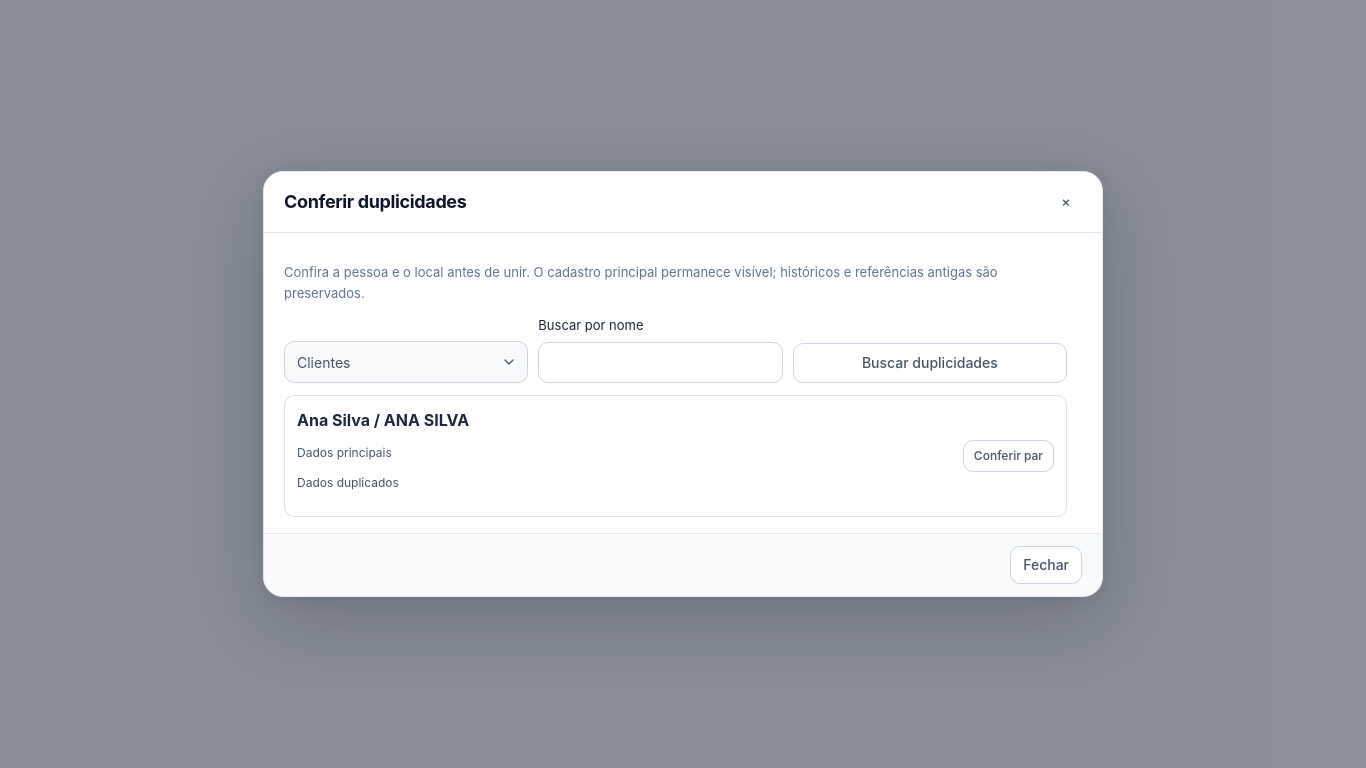
it: requires an explicit preview and identity check before confirming the selected direction
Click the button "Conferir par": (1008, 456) [963,440,1054,472]
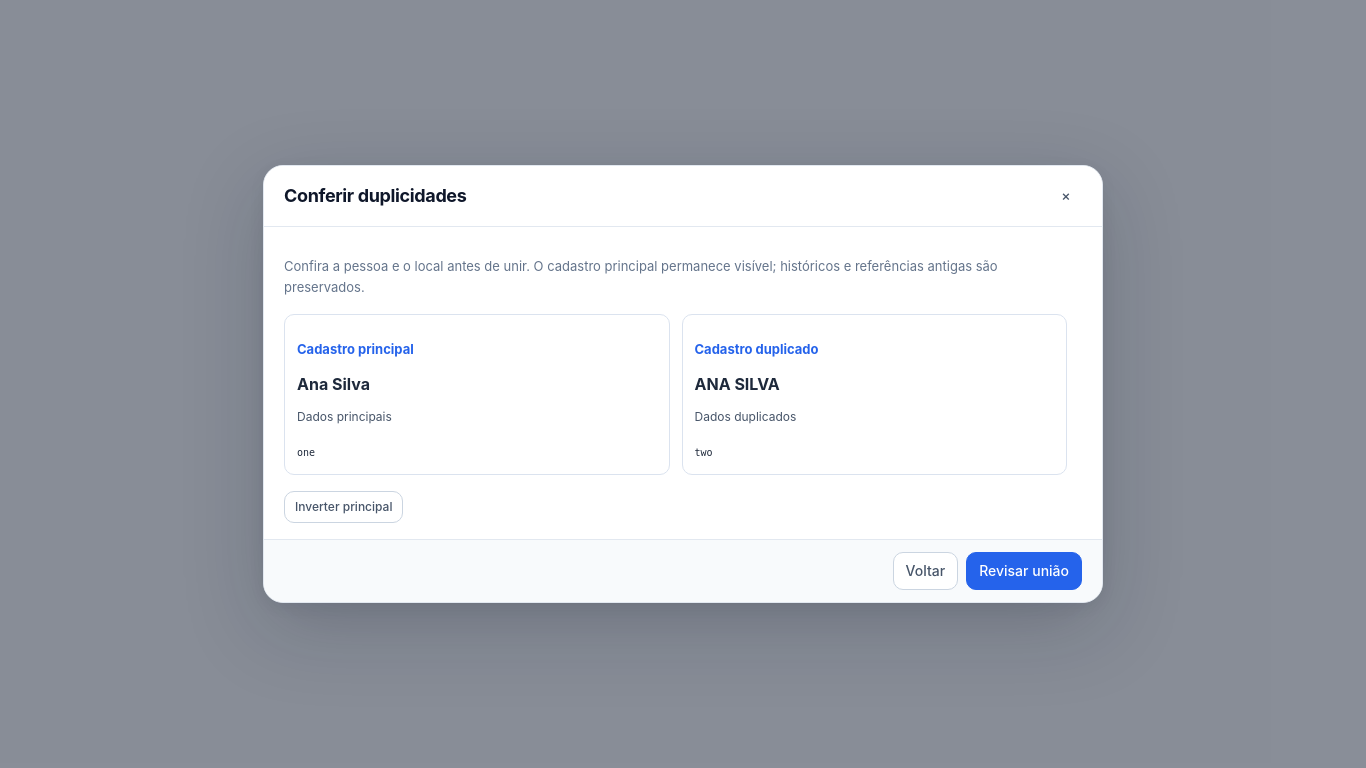
Click the button "Inverter principal": (344, 507) [284,491,403,523]
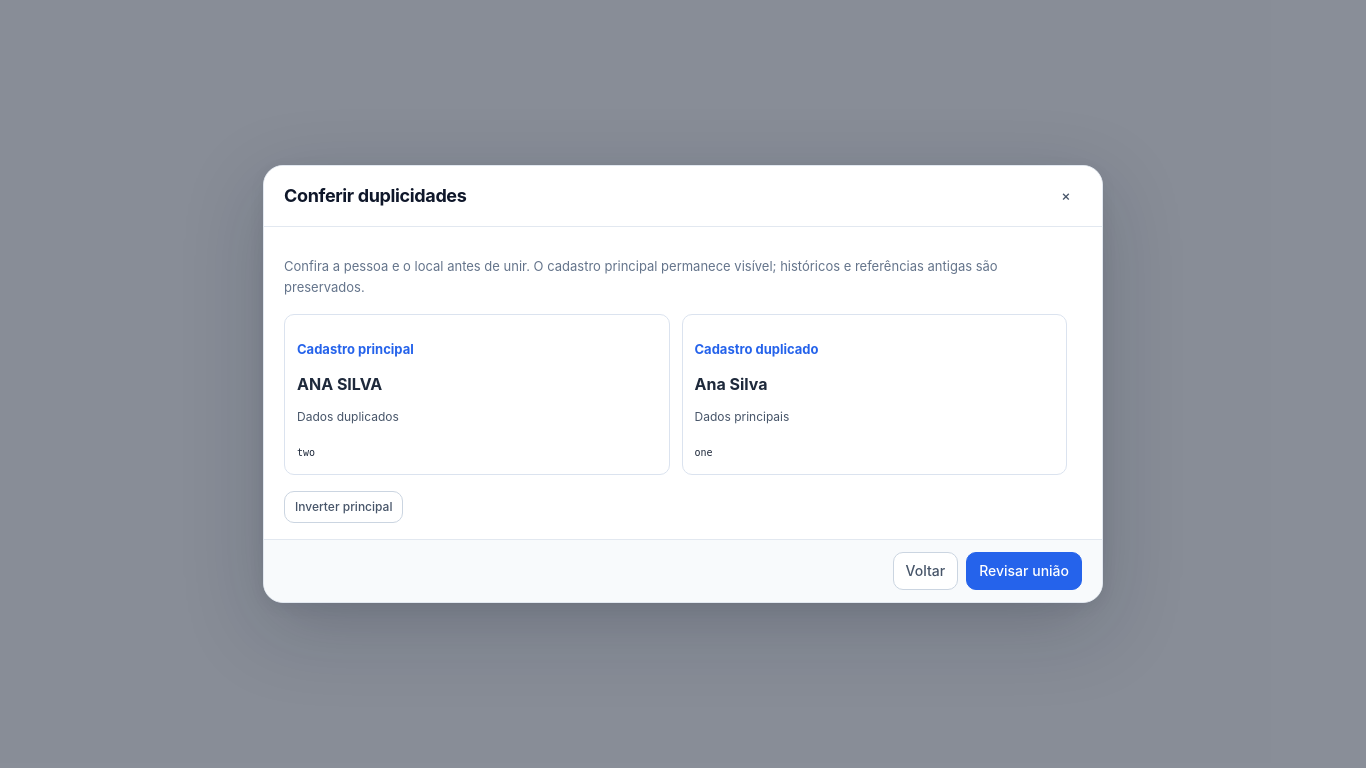
Click the button "Revisar união": (1024, 571) [966,552,1082,590]
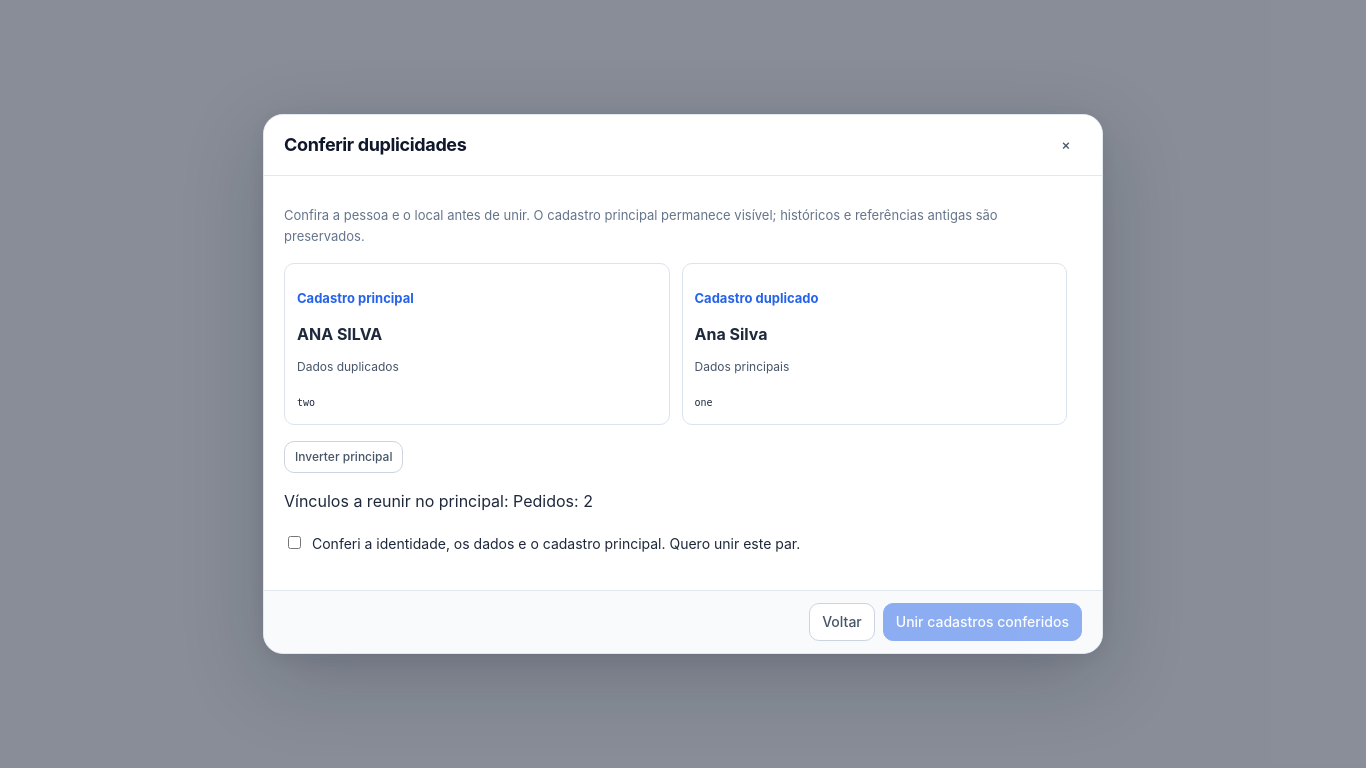
Expected: the button "Unir cadastros conferidos" is disabled, [883,602,1082,640]
Click the checkbox: (294, 542) [288,536,301,548]
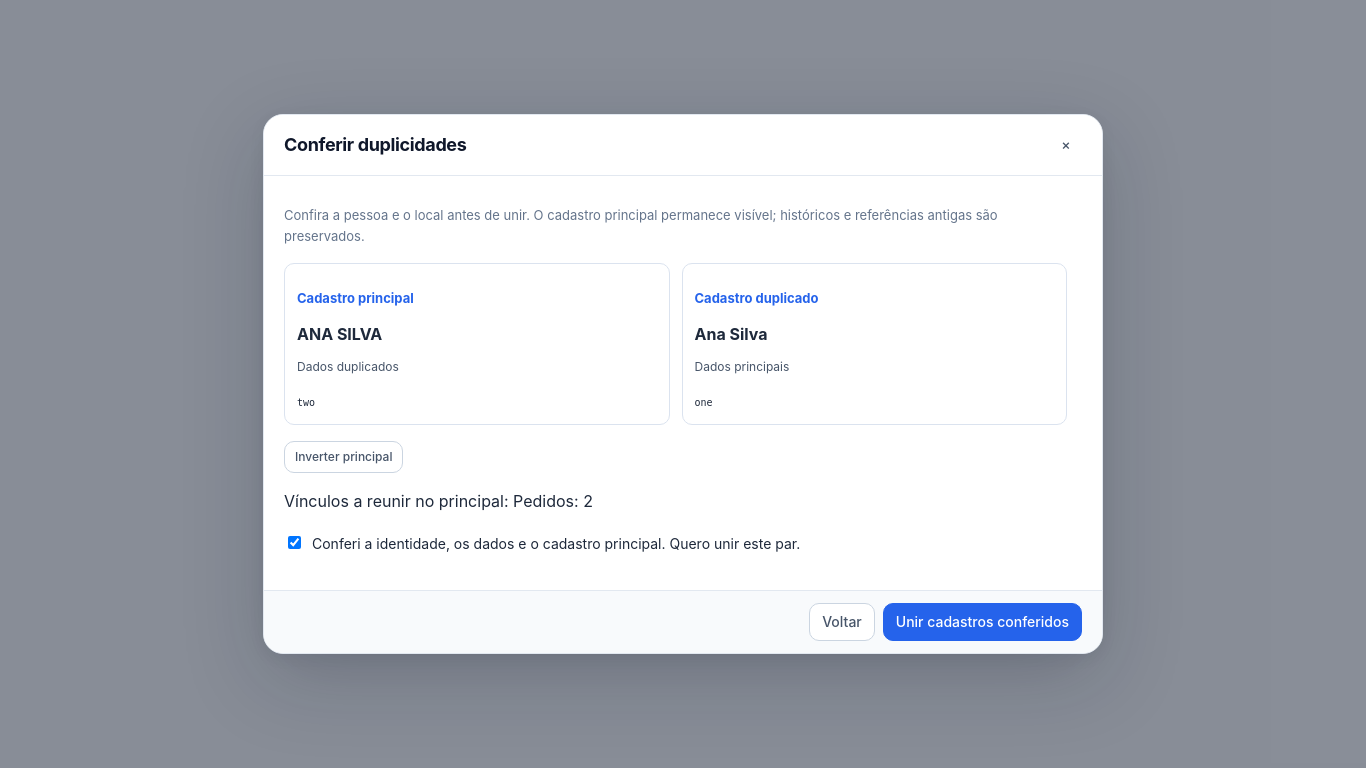
Click the button "Unir cadastros conferidos": (982, 622) [883,602,1082,640]
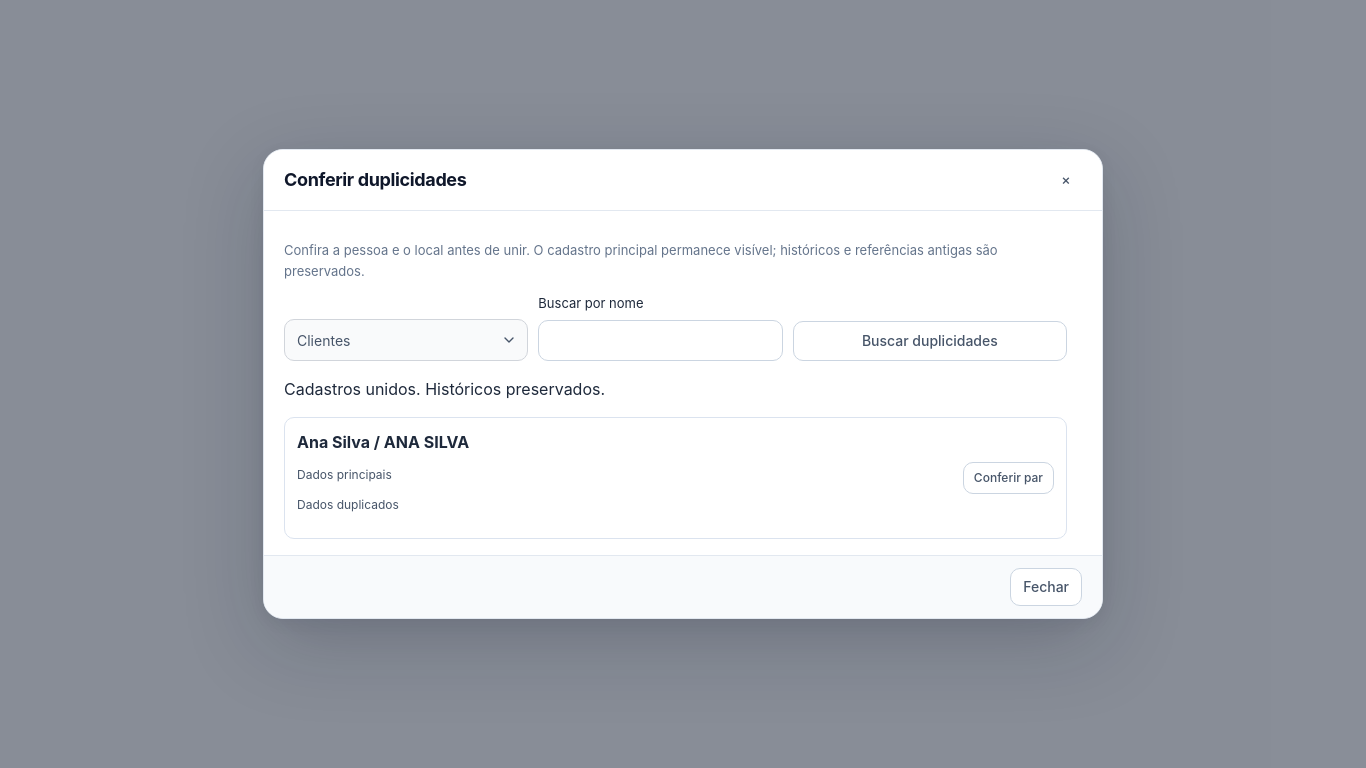
Expected: the text "Cadastros unidos. Históricos preservados." is shown, [284,379,605,399]
